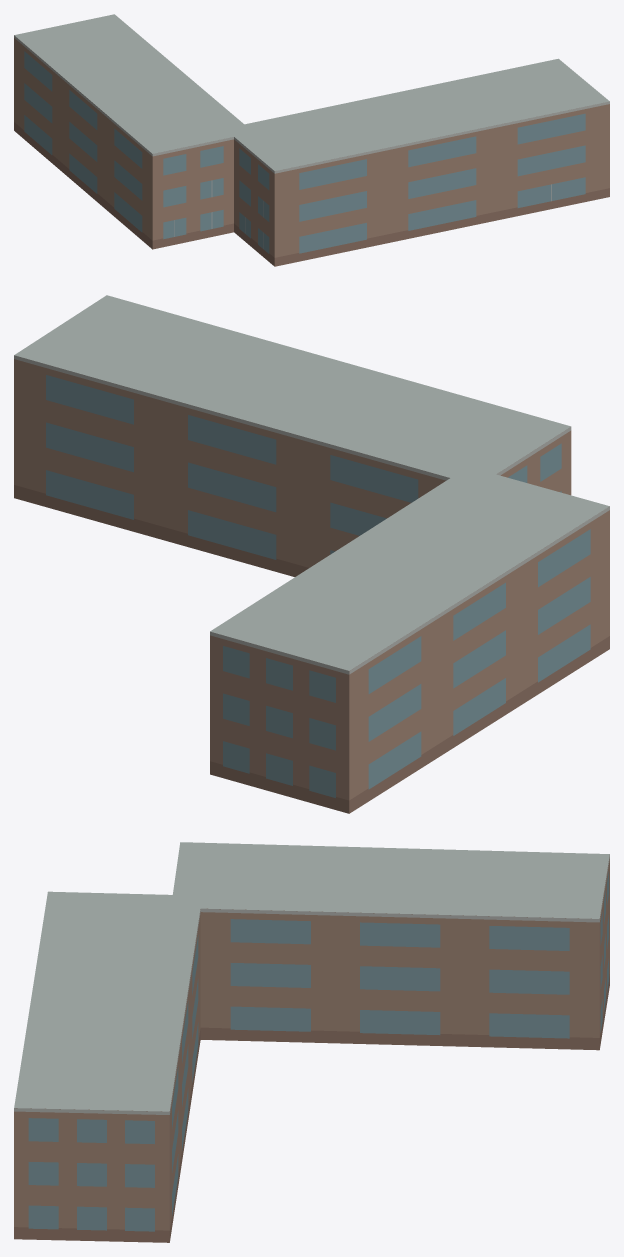
The model's file is survey-upis-32551538.glb.
3 renders of one model, top to bottom at view 1: azimuth 30°, elevation 25°; view 2: azimuth 150°, elevation 25°; view 3: azimuth 270°, elevation 25°, orthographic. The views are drawn at different scales.
Visible parts, largest first — view 1: survey-upis-32551538.tmp; view 2: survey-upis-32551538.tmp; view 3: survey-upis-32551538.tmp.
Boxes of the visible parts, x1,y1,x2,y2 form: survey-upis-32551538.tmp: (14, 14, 609, 266); survey-upis-32551538.tmp: (14, 295, 609, 813); survey-upis-32551538.tmp: (14, 842, 609, 1242).
Size of the model in its own units: 40.33 by 9.15 by 37.68.
